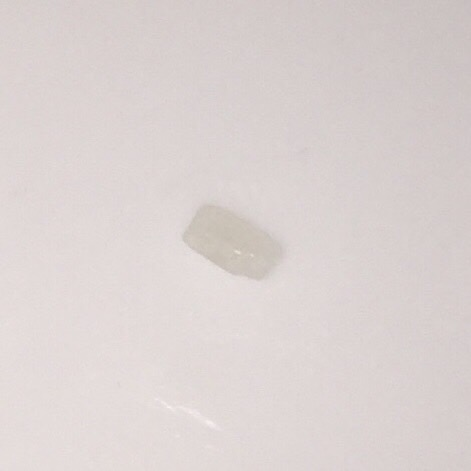Gao Tam: (181, 190, 285, 291)
